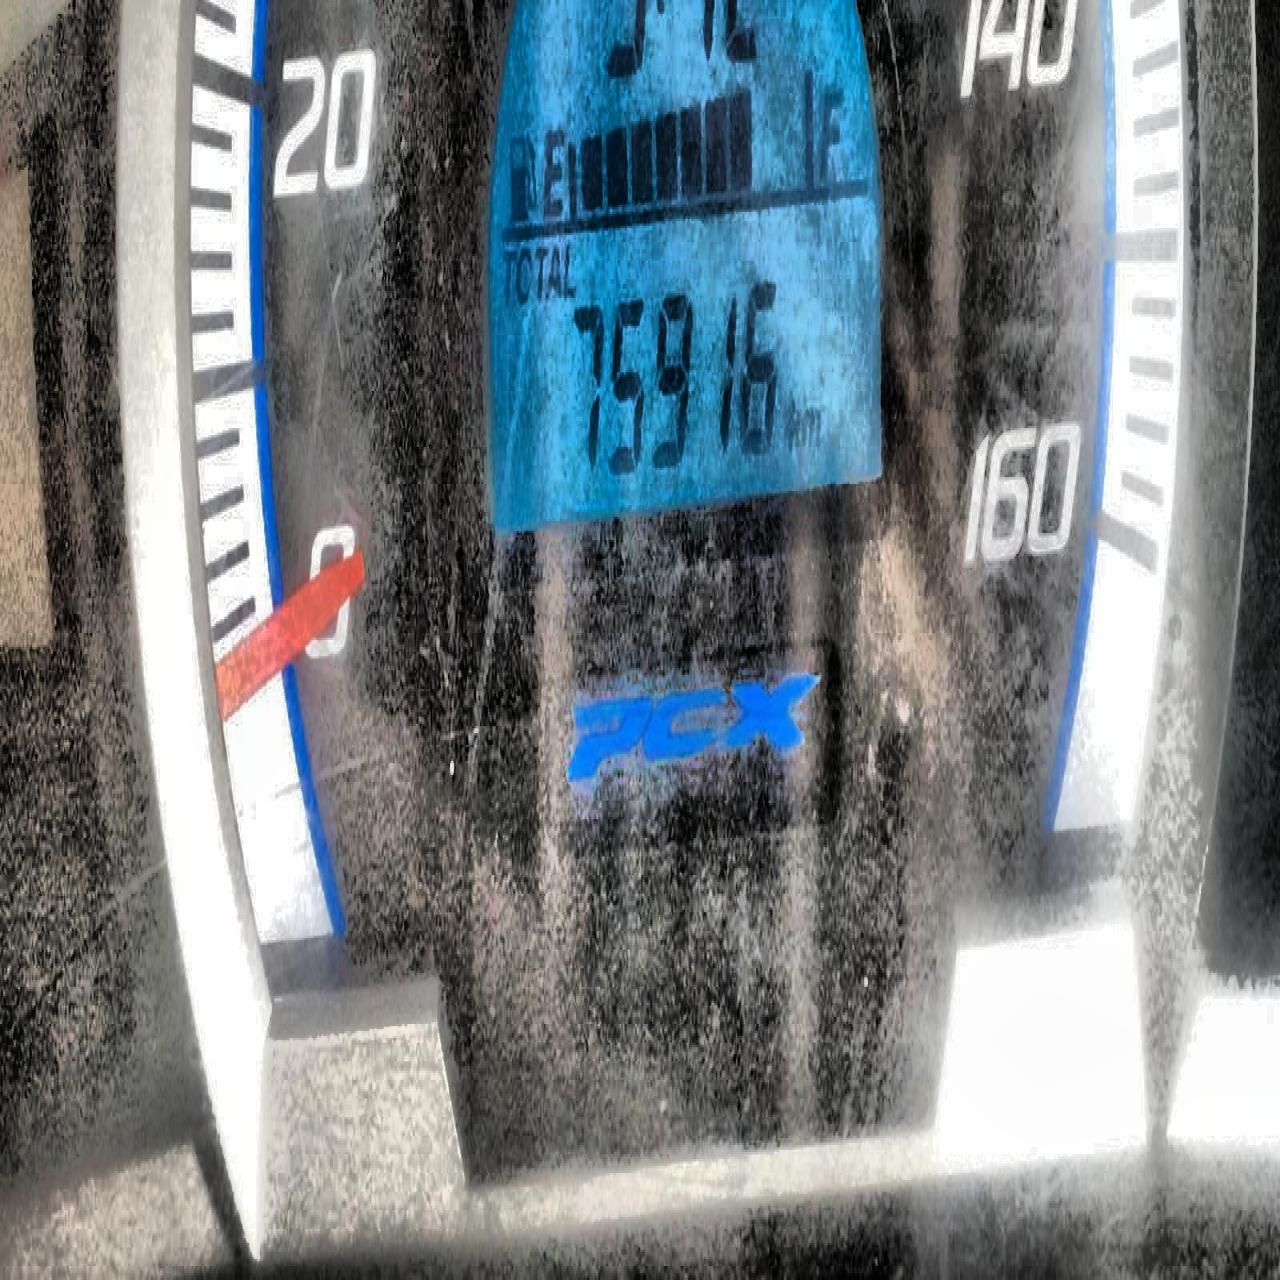1: (714, 284, 738, 461)
5: (608, 293, 644, 482)
6: (740, 270, 779, 465)
7: (570, 295, 604, 484)
9: (651, 291, 694, 472)
X: (817, 79, 847, 179), (540, 125, 565, 218), (801, 402, 822, 451), (516, 239, 532, 302), (499, 241, 516, 300), (533, 240, 547, 300), (547, 240, 561, 298), (787, 399, 802, 449), (563, 240, 576, 298)
odometer: (468, 0, 898, 549)
